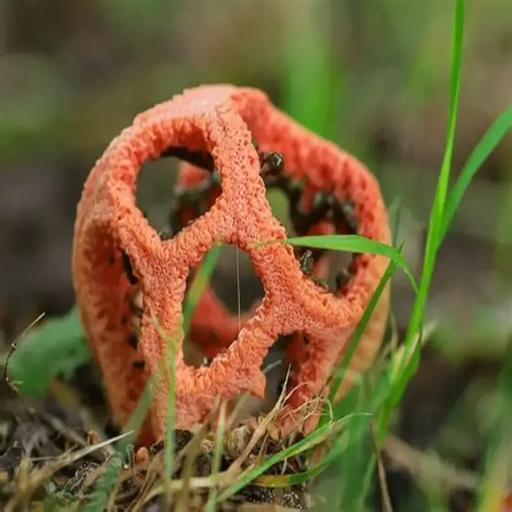mushroom: (54, 64, 418, 458)
